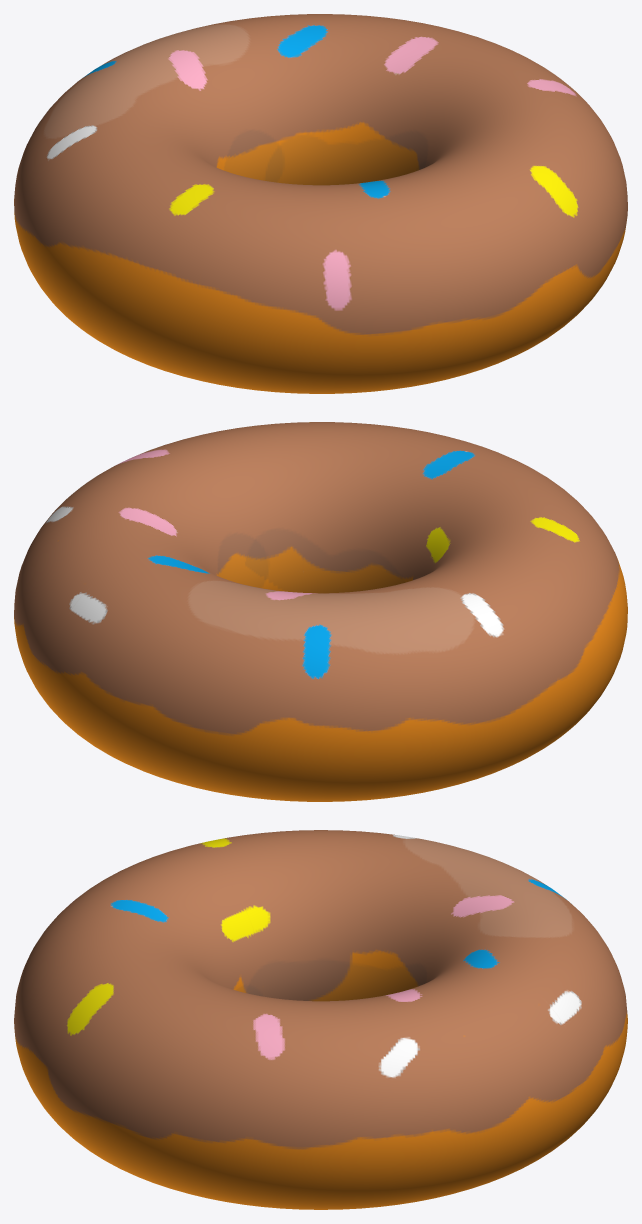
File: donut.glb
3 renders of one model, top to bottom at view 1: azimuth 30°, elevation 25°; view 2: azimuth 150°, elevation 25°; view 3: azimuth 270°, elevation 25°, orthographic.
Visible parts, largest first — view 1: Object_5; view 2: Object_5; view 3: Object_5.
Boxes of the visible parts, left/top/right/bottom form: Object_5: left=14, top=14, right=627, bottom=393; Object_5: left=14, top=422, right=627, bottom=801; Object_5: left=14, top=830, right=627, bottom=1209.
Size of the model in its own units: 0.6576 by 0.2236 by 0.6576.
1 material, 1 textured.
